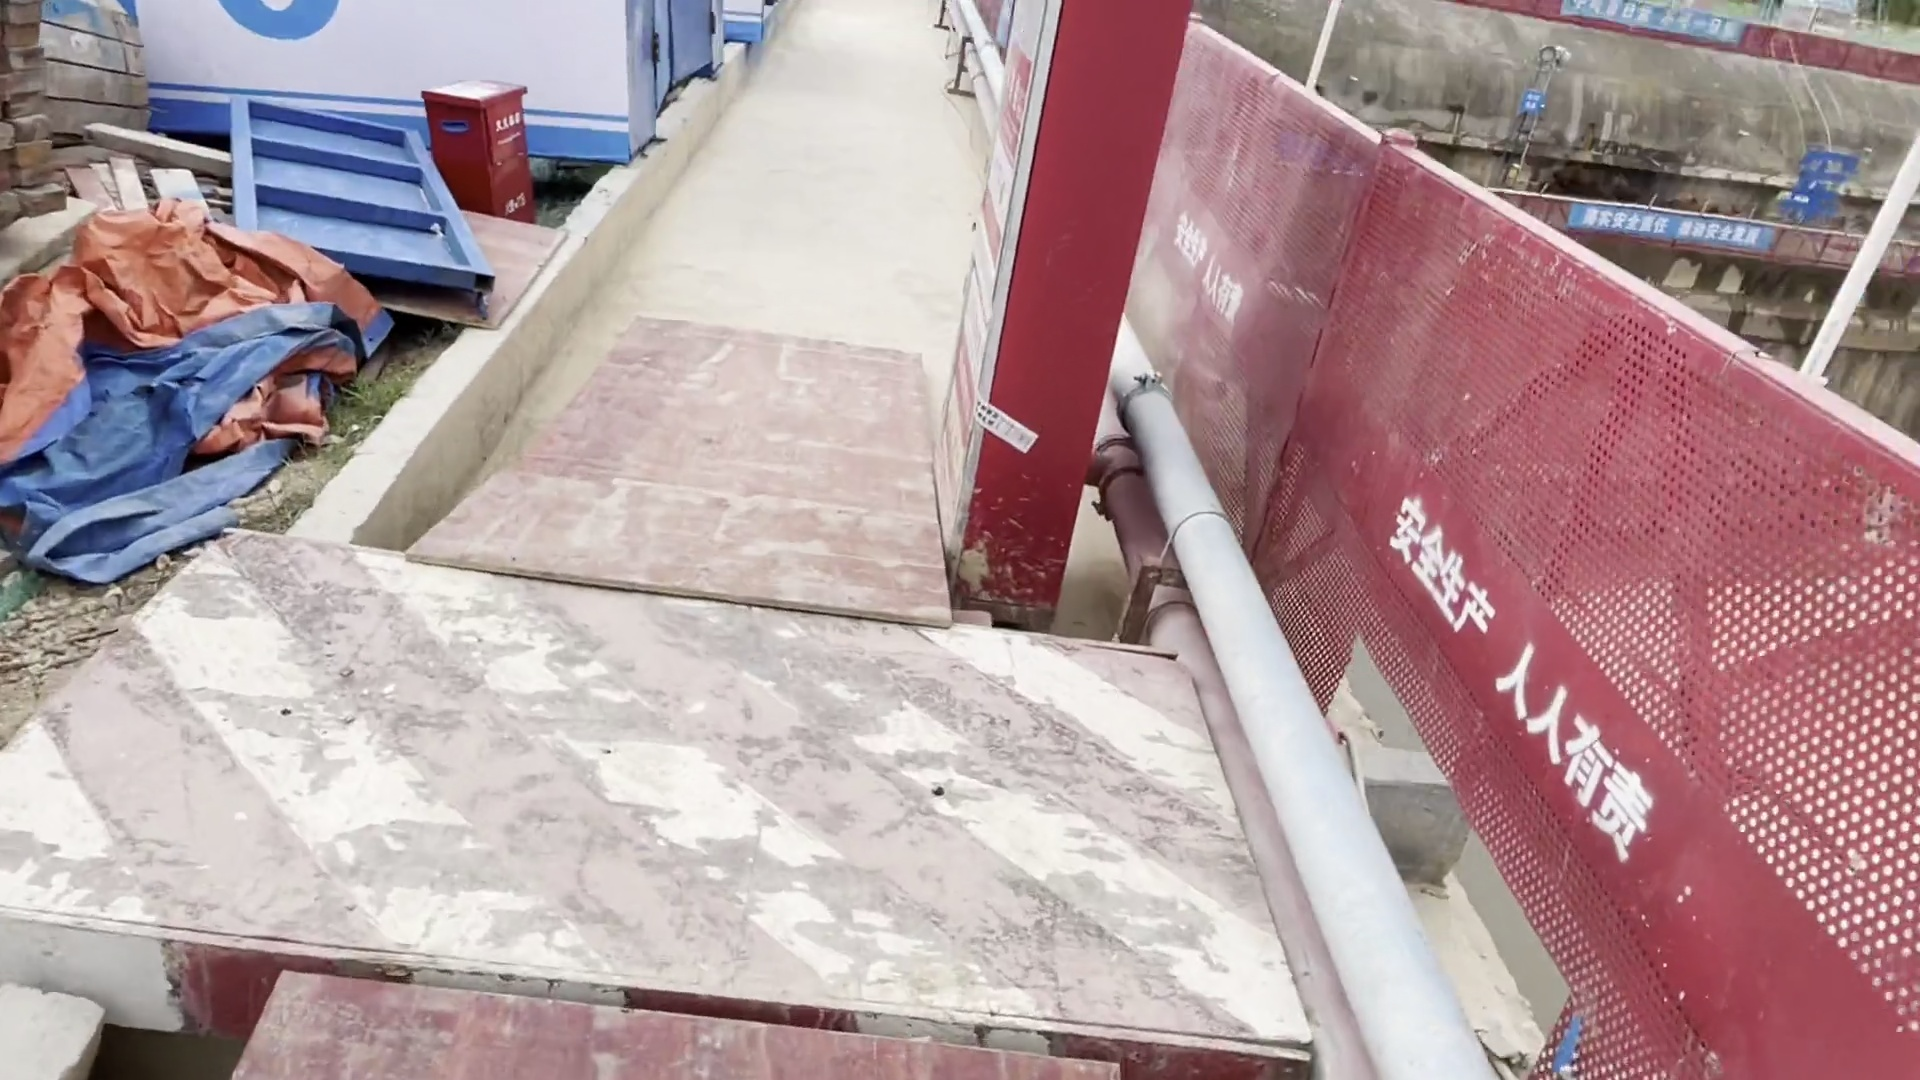board: (65, 327, 975, 1059)
fence: (1303, 145, 1920, 1052)
